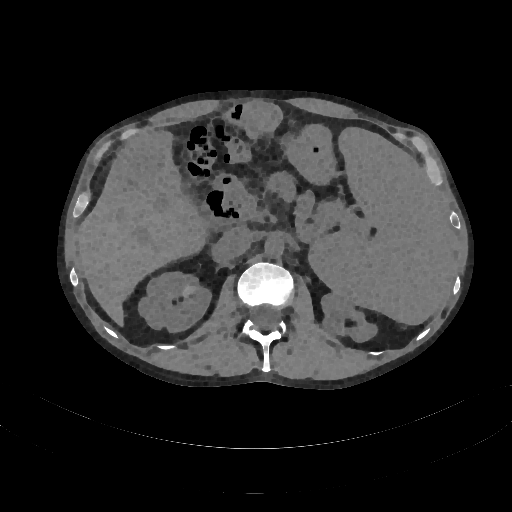Lesion: (177, 280, 198, 303)
